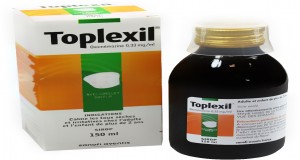Medicine: (8, 4, 164, 152), (164, 21, 290, 157)
